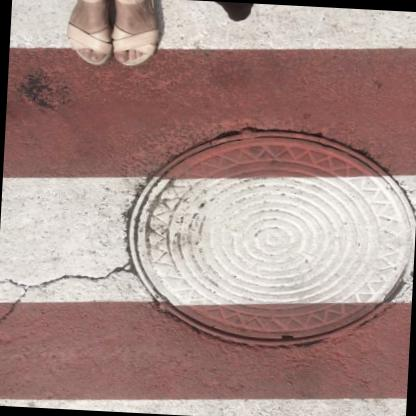manholes: (95, 84, 416, 380)
